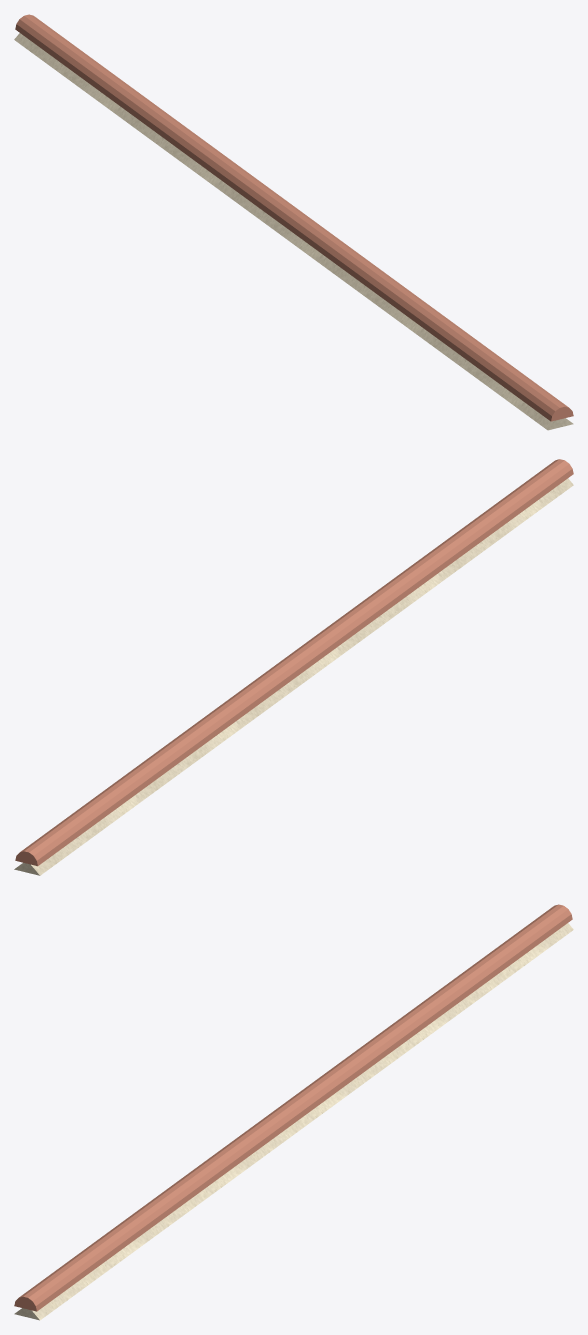
Rendered from ridge.glb.
3 renders of one model, top to bottom at view 1: azimuth 30°, elevation 25°; view 2: azimuth 150°, elevation 25°; view 3: azimuth 330°, elevation 25°, orthographic.
Parts seen in each view (by area): view 1: ridge_ridge, ridge_render; view 2: ridge_ridge, ridge_render; view 3: ridge_ridge, ridge_render.
Boxes of the visible parts, <box> form: ridge_ridge: <box>15,14,573,421</box>; ridge_render: <box>14,33,573,430</box>; ridge_ridge: <box>15,459,573,866</box>; ridge_render: <box>14,478,573,875</box>; ridge_ridge: <box>14,904,572,1311</box>; ridge_render: <box>14,923,573,1320</box>.
Bounding box in the file's own units: 0.3 × 0.2308 × 10.62.
Materials: 2 (1 with a texture image).
